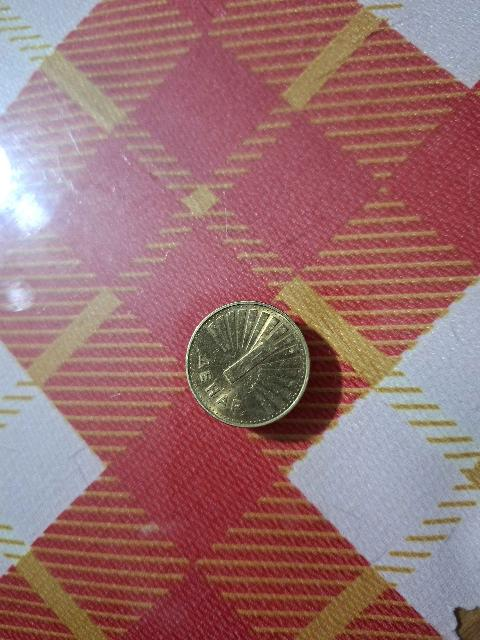coin: (186, 302, 309, 427)
